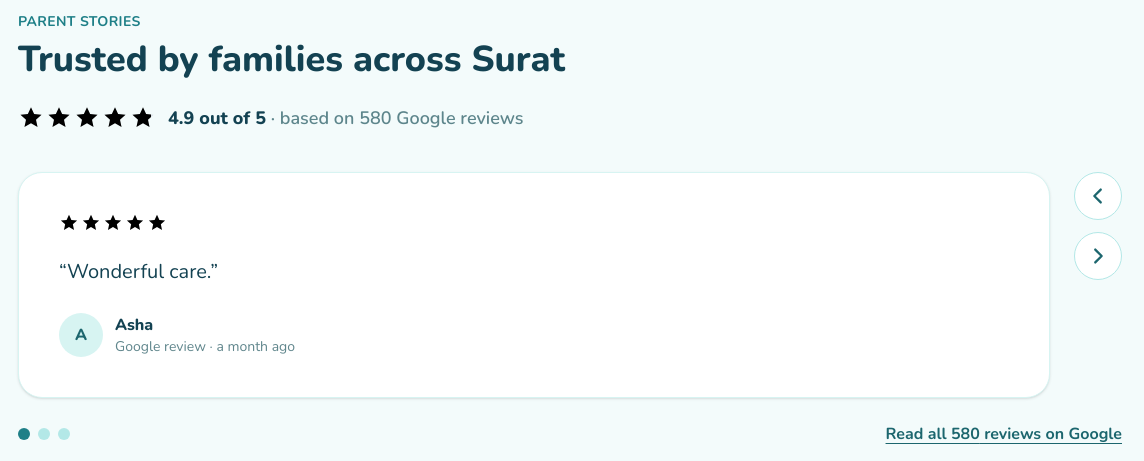
Test: Reviews › advances with the next button and wraps around
Click the button named "next review": (1098, 256) [1074,232,1122,280]
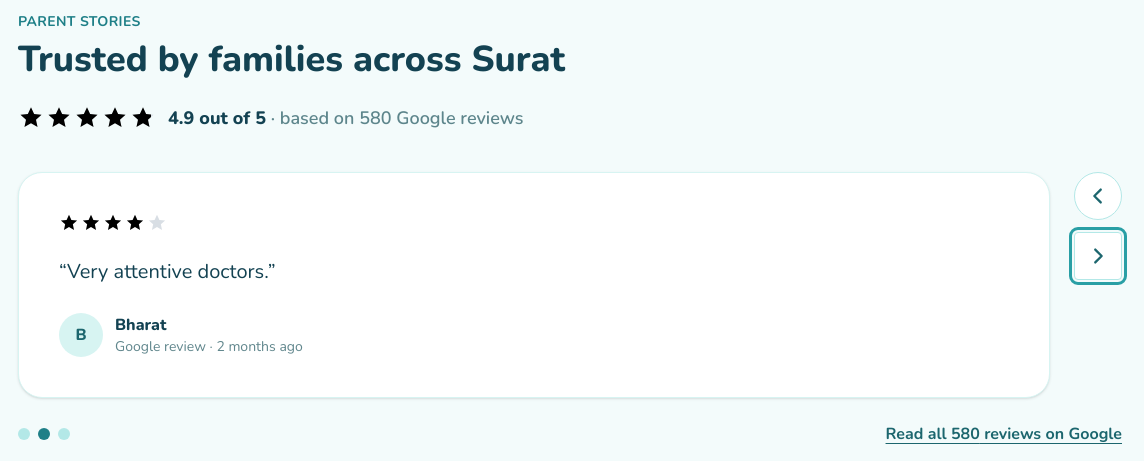
Result: the text "Bharat" is shown at [115,314,166,336]
Click the button named "next review": (1098, 256) [1074,232,1122,280]
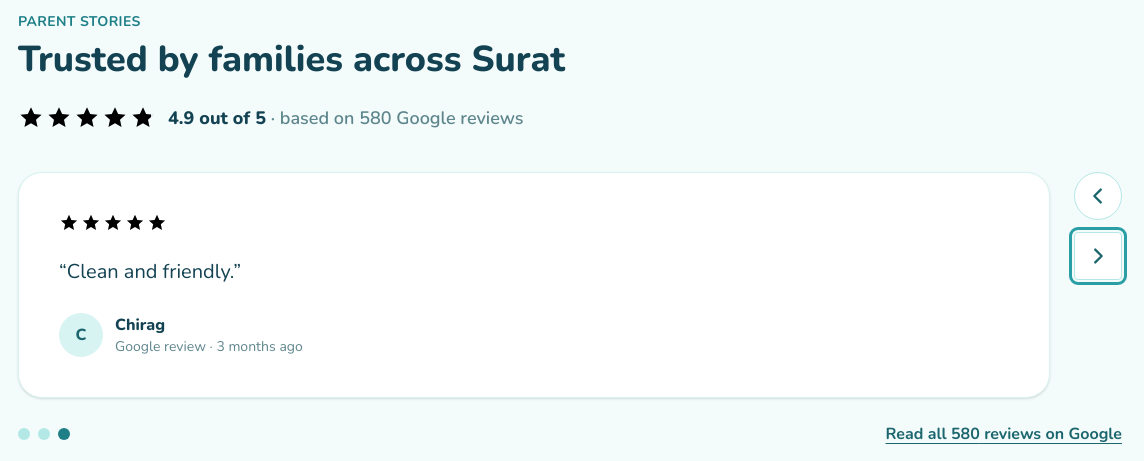
Result: the text "Chirag" is shown at [115,314,165,336]
Click the button named "next review": (1098, 256) [1074,232,1122,280]
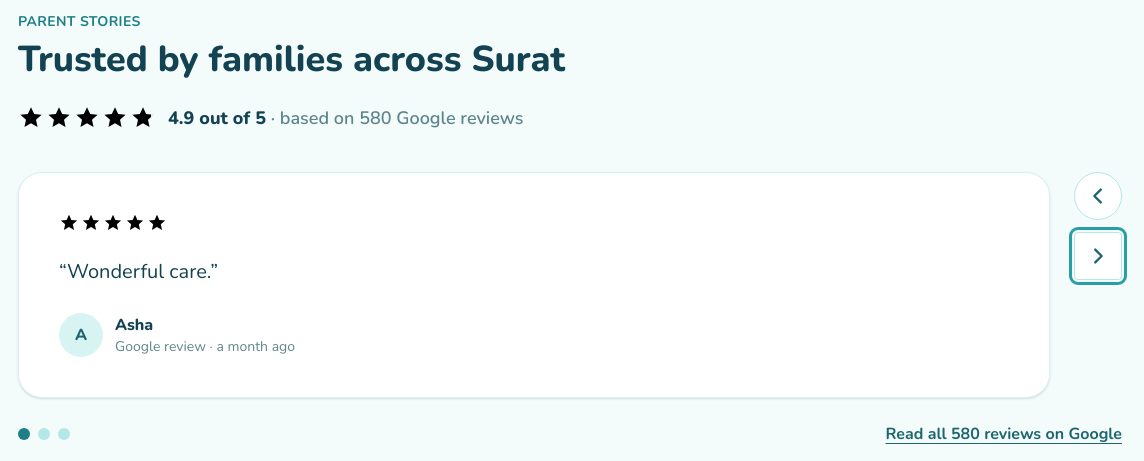
Result: the text "Asha" is shown at [115,314,153,336]
